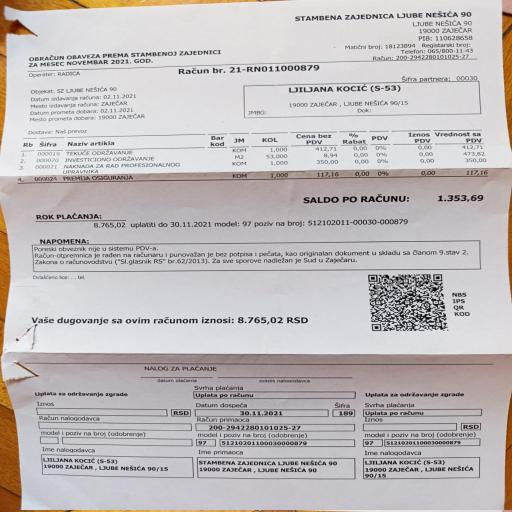stambena_zajednica: (32, 124, 497, 184)
stambena_zajednica_iznos: (28, 310, 321, 330)
